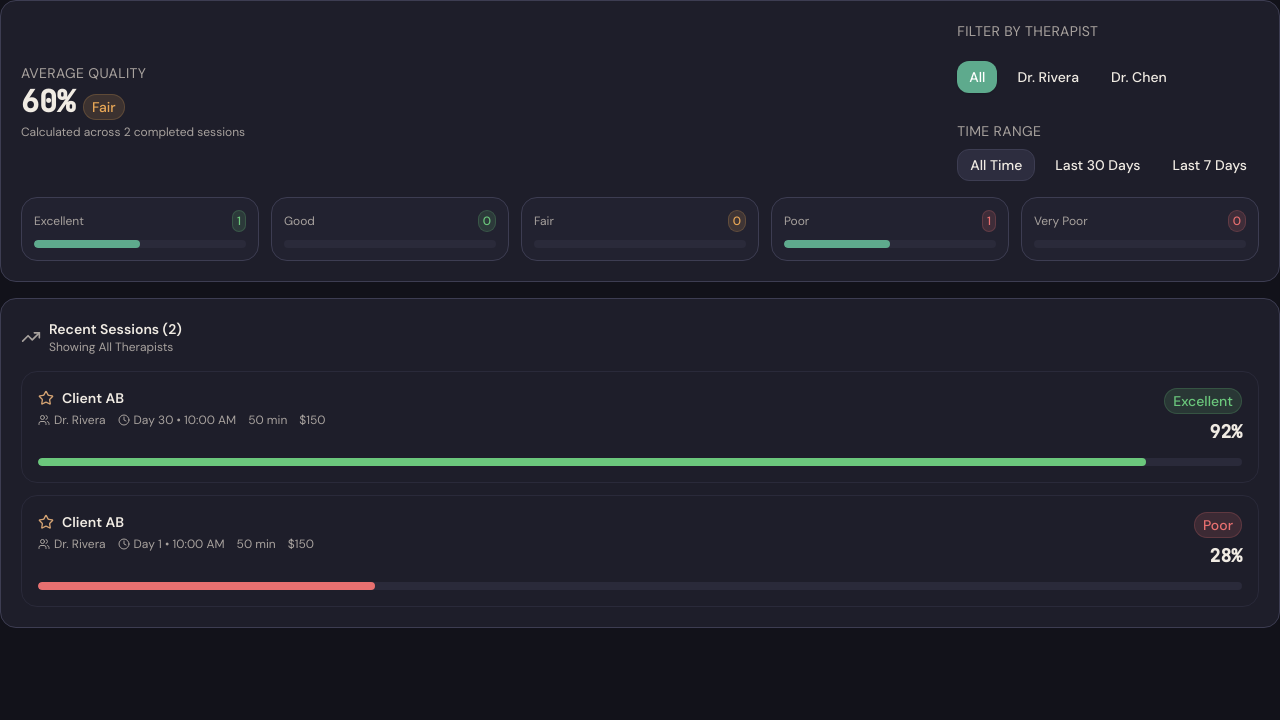
it: SessionHistoryPanel › time range filtering › recalculates average quality when time range changes
Check: the text "60%" is shown, box [21,82,75,118]
Check: the text "Calculated across 2 completed sessions" is shown, box [21,124,245,140]
Click the button "Last 7 Days": (1210, 165) [1160,149,1259,181]
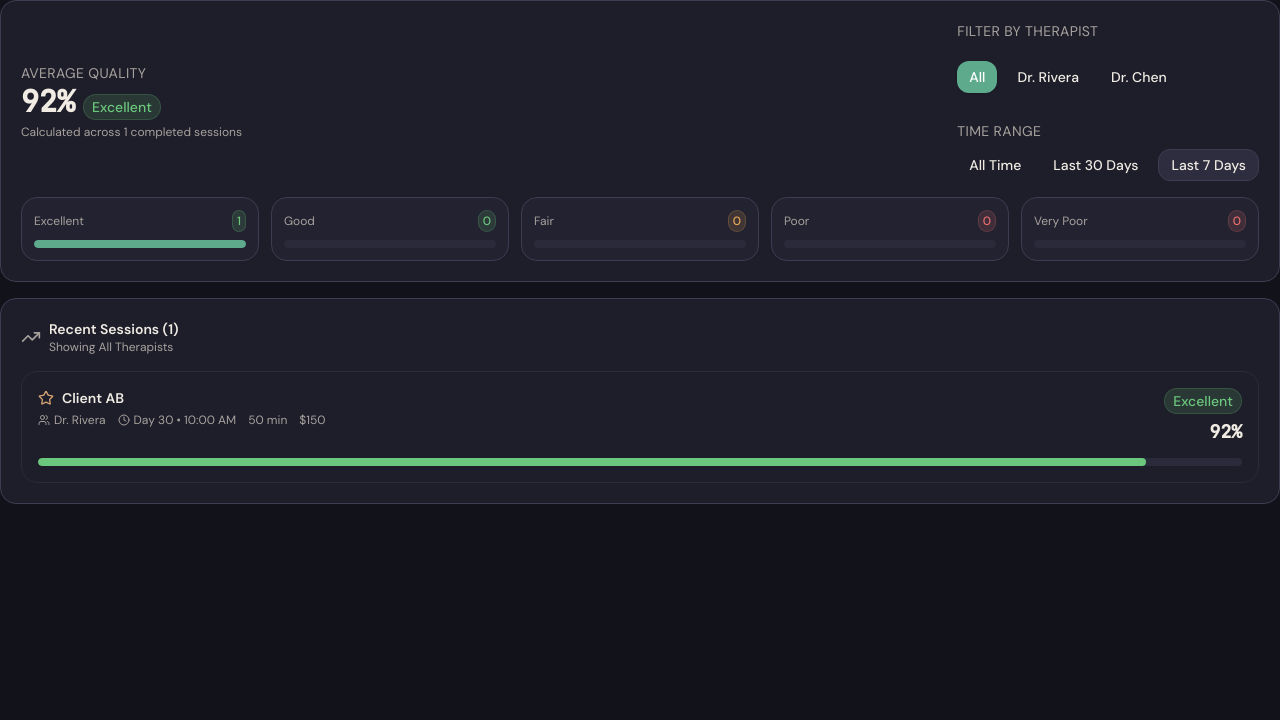
Check: the text "Calculated across 1 completed sessions" is shown, box [21,124,242,140]
